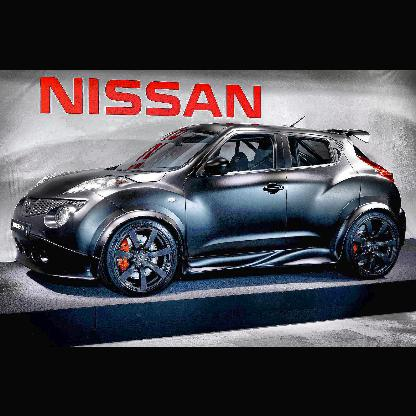Nissan Juke Hatchback 2012: (12, 123, 408, 295)
